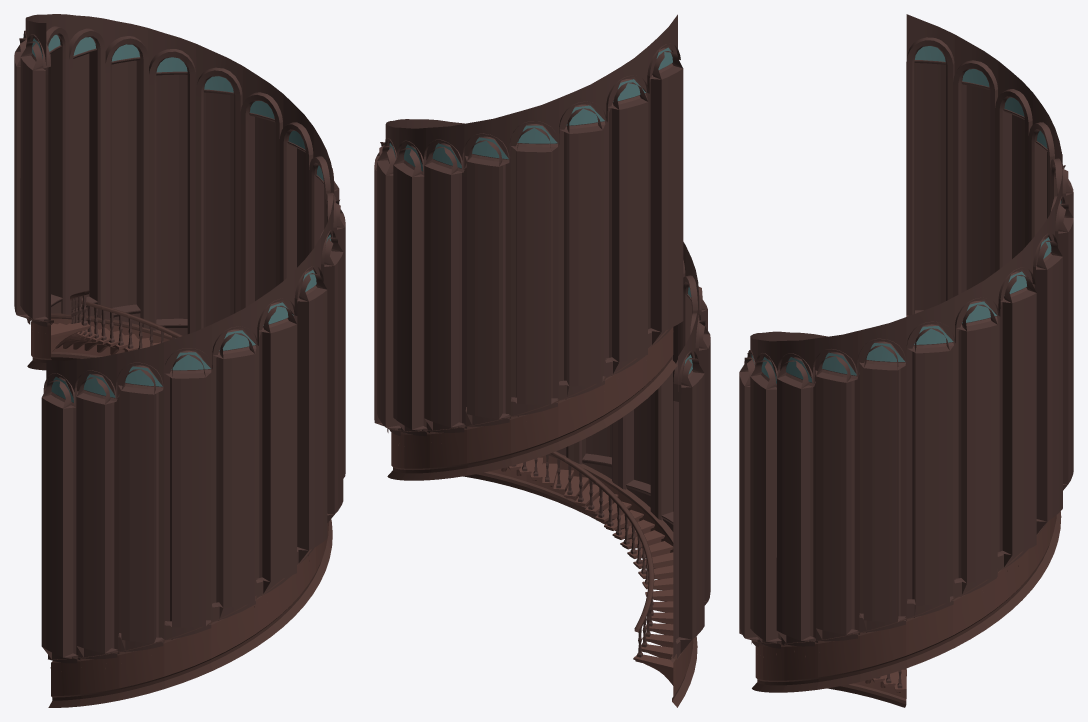
The model's file is StaircaseExportModel.fbx.
The picture shows the model from 3 angles, left to right: view 1: azimuth 30°, elevation 25°; view 2: azimuth 150°, elevation 25°; view 3: azimuth 270°, elevation 25°; orthographic projection.
Parts seen in each view (by area): view 1: polySurface42; view 2: polySurface42; view 3: polySurface42.
Boxes of the visible parts, x1=… form: polySurface42: x1=14, y1=14, x2=345, y2=707; polySurface42: x1=374, y1=14, x2=710, y2=707; polySurface42: x1=739, y1=14, x2=1073, y2=707.
Size of the model in its own units: 26.62 by 60.86 by 26.62.
